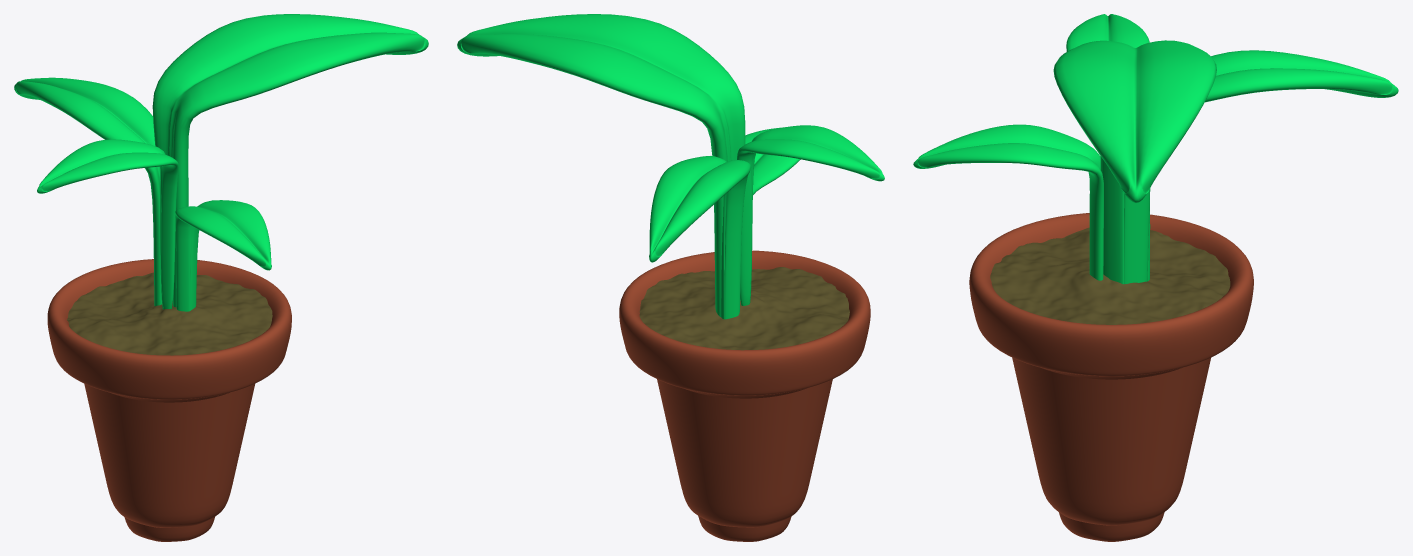
Rendered from plant (1).fbx.
The picture shows the model from 3 angles, left to right: view 1: azimuth 30°, elevation 25°; view 2: azimuth 150°, elevation 25°; view 3: azimuth 270°, elevation 25°; orthographic projection. The views are drawn at different scales.
Parts seen in each view (by area): view 1: Circle, Plane, Circle.001, Plane.003, Plane.001, Plane.002; view 2: Circle, Plane, Circle.001, Plane.003, Plane.001, Plane.002; view 3: Circle, Plane, Circle.001, Plane.002, Plane.003, Plane.001.
Part boxes in pixels (x1,y1,x2,y2): Circle: [47, 259, 291, 541]; Plane: [152, 14, 428, 307]; Circle.001: [67, 272, 272, 355]; Plane.003: [14, 77, 161, 306]; Plane.001: [37, 139, 178, 309]; Plane.002: [175, 200, 271, 311]; Circle: [619, 250, 870, 541]; Plane: [457, 14, 745, 316]; Circle.001: [639, 267, 849, 350]; Plane.003: [649, 156, 750, 319]; Plane.001: [737, 125, 884, 305]; Plane.002: [745, 127, 800, 194]; Circle: [969, 213, 1253, 541]; Plane: [1053, 40, 1216, 284]; Circle.001: [990, 227, 1230, 324]; Plane.002: [913, 124, 1103, 280]; Plane.003: [1147, 50, 1398, 280]; Plane.001: [1066, 14, 1149, 156].
Bounding box in the file's own units: 730 × 780 × 654.
